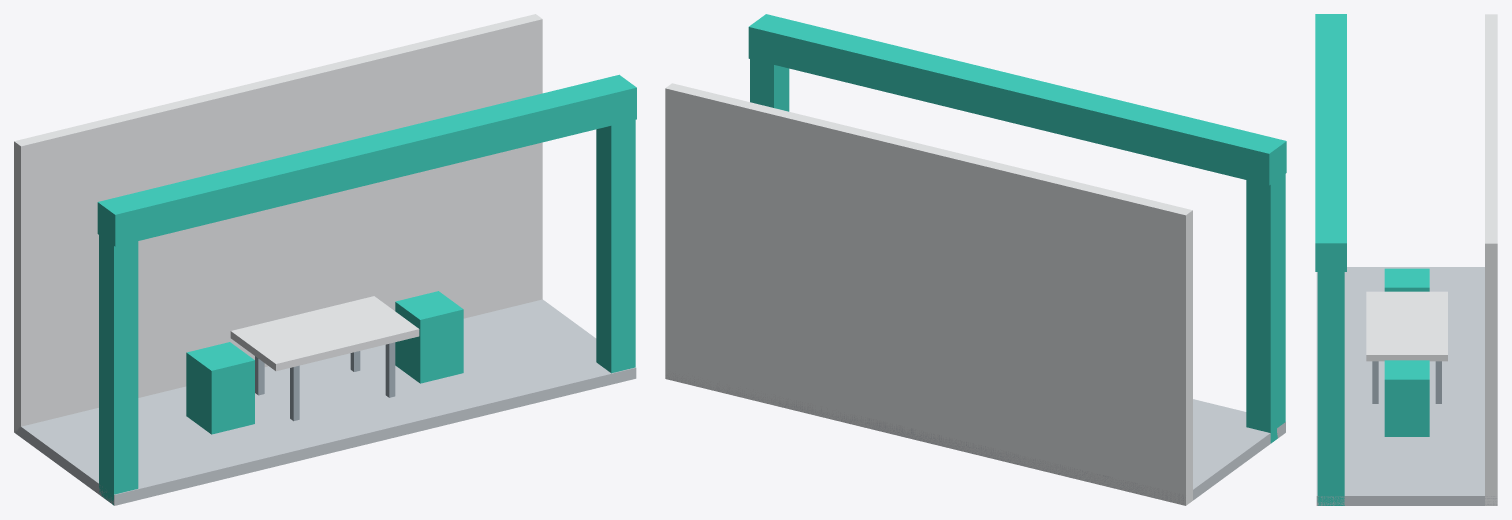
The picture shows the model from 3 angles, left to right: view 1: azimuth 30°, elevation 25°; view 2: azimuth 150°, elevation 25°; view 3: azimuth 270°, elevation 25°; orthographic projection. The views are drawn at different scales.
Visible parts, largest first — view 1: Exhibition Booth Concept; view 2: Exhibition Booth Concept; view 3: Exhibition Booth Concept.
Part boxes in pixels (x1,y1,x2,y2): Exhibition Booth Concept: (14,14,636,505); Exhibition Booth Concept: (665,14,1286,505); Exhibition Booth Concept: (1315,14,1497,505).
Size of the model in its own units: 6 by 3.2 by 2.01.
